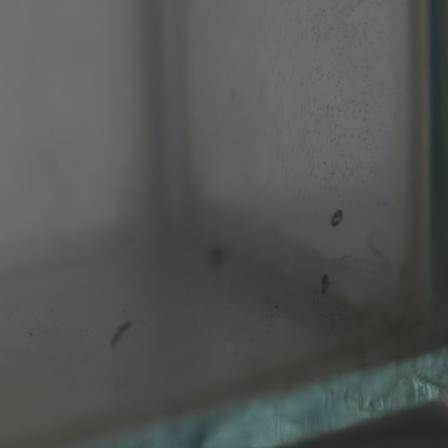Jentik-Nyamuk: (314, 268, 337, 298), (324, 206, 347, 233)
